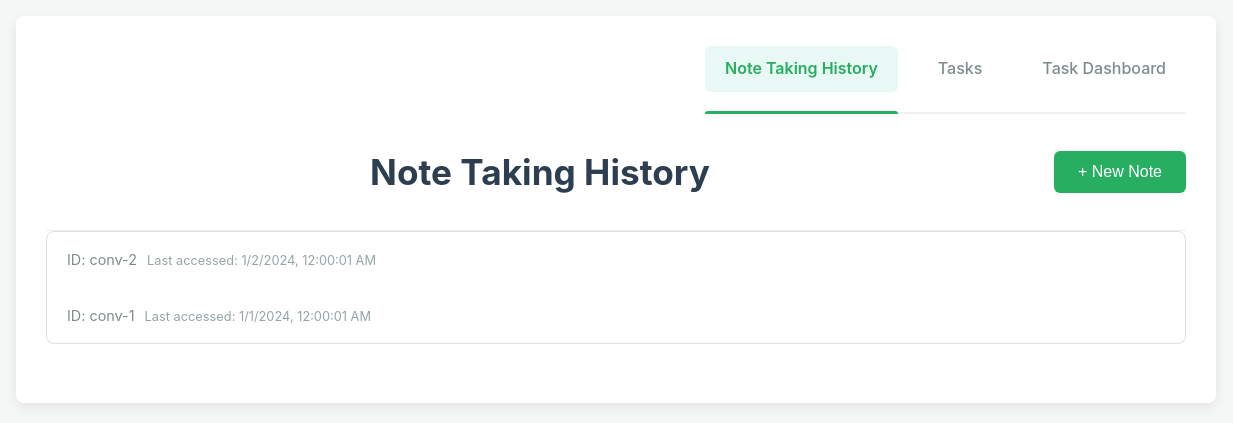
Test: ConversationListView › New conversation creation (standalone mode) › disables button during creation
This screenshot has width=1233, height=423.
Click the button "+ New Note" at (1120, 172), box [1054, 151, 1186, 193]
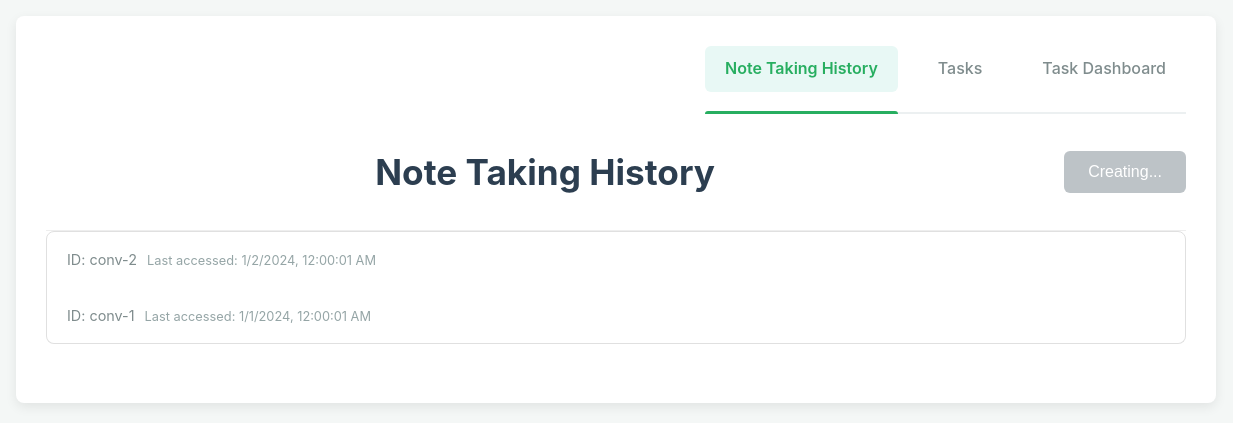
Check: the button "Creating..." is disabled, box [1064, 151, 1186, 193]
